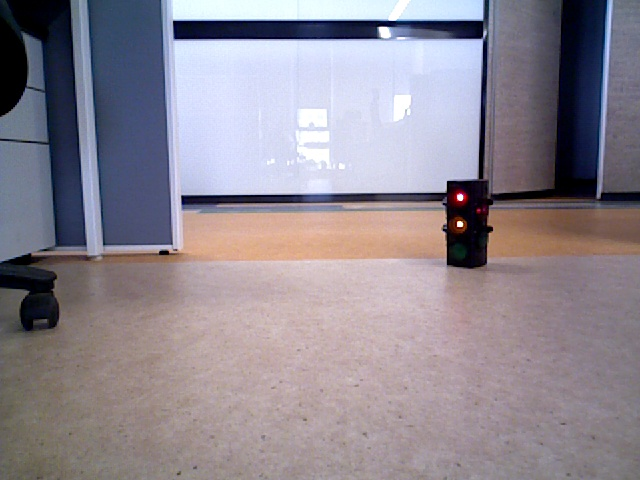red: (446, 182, 485, 263)
